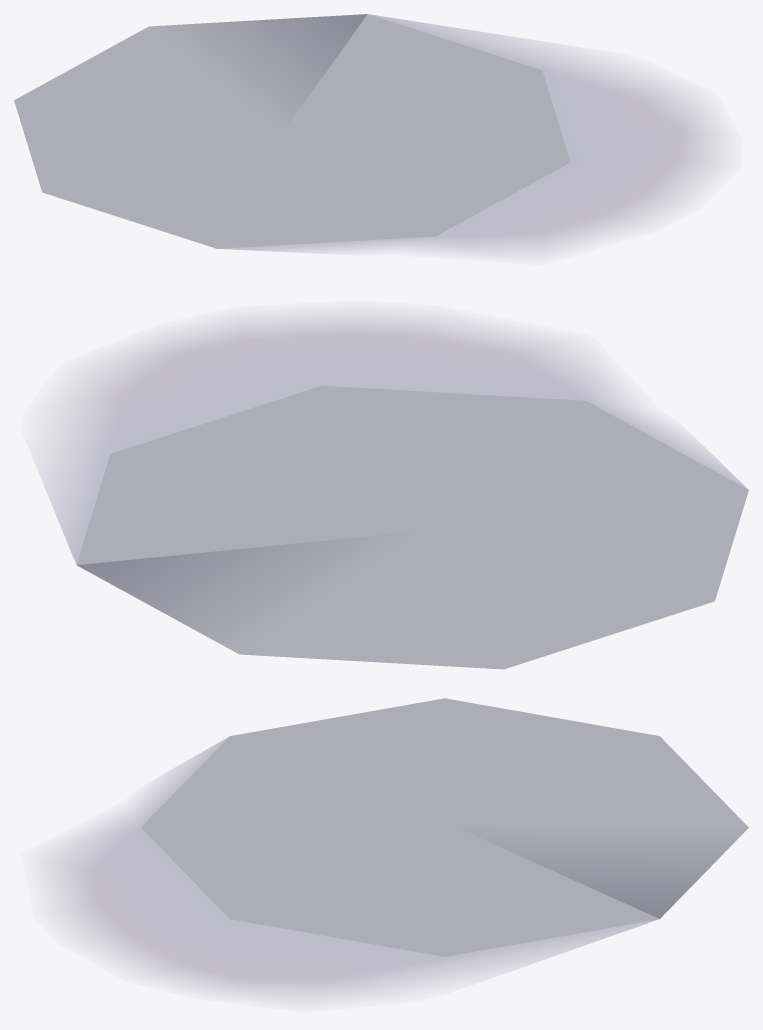
The picture shows the model from 3 angles, top to bottom: view 1: azimuth 30°, elevation 25°; view 2: azimuth 150°, elevation 25°; view 3: azimuth 270°, elevation 25°; orthographic projection. The views are drawn at different scales.
Visible parts, largest first — view 1: Joint_0_Object_0; view 2: Joint_0_Object_0; view 3: Joint_0_Object_0.
Boxes of the visible parts, <box> form: Joint_0_Object_0: <box>14,14,716,252</box>; Joint_0_Object_0: <box>44,314,748,668</box>; Joint_0_Object_0: <box>50,698,748,997</box>.
Bounding box in the file's own units: 49.39 × 0 × 48.33.
Materials: 1 (1 with a texture image).
